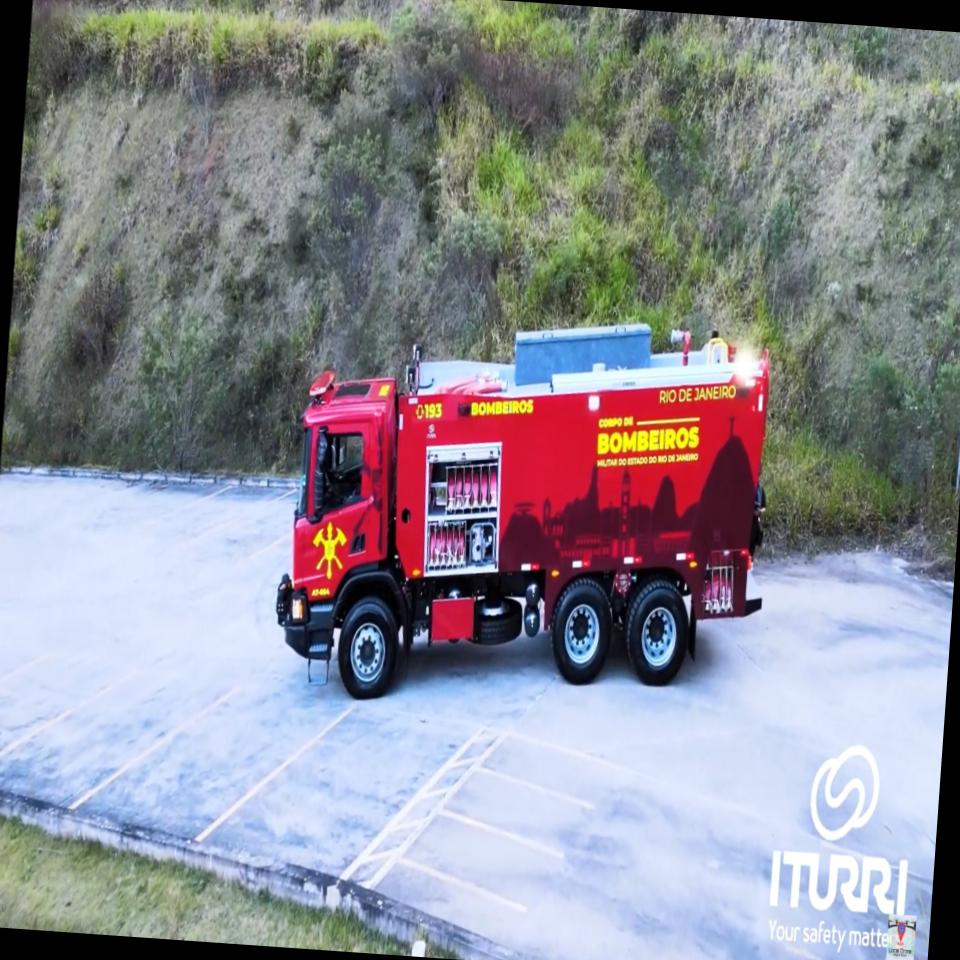viatura: (268, 294, 786, 732)
